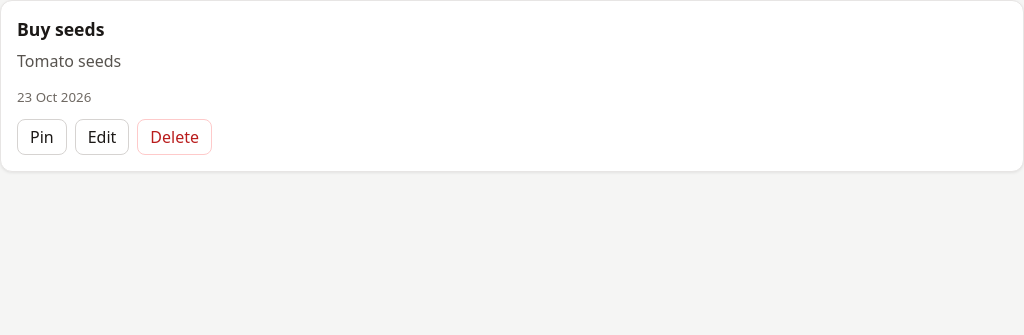
Scenario: NoteCard › disables Save when the title is empty
The width and height of the screenshot is (1024, 335).
Click the button "Edit" at x=102, y=137, box [75,119,129,155]
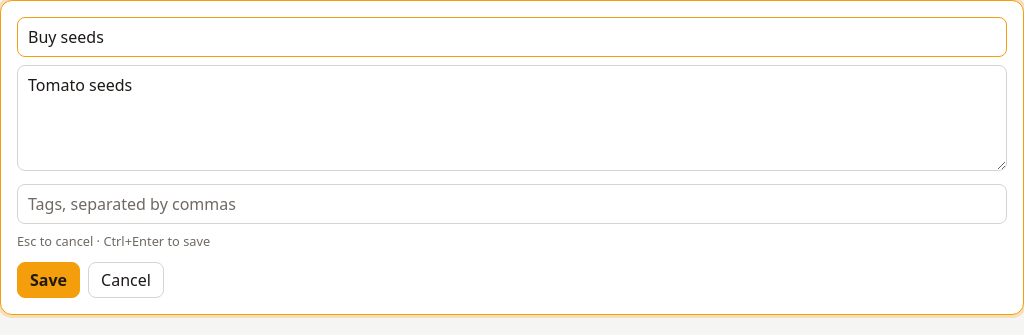
Clear the field named "Note title" at x=512, y=37, box [17,17,1007,57]
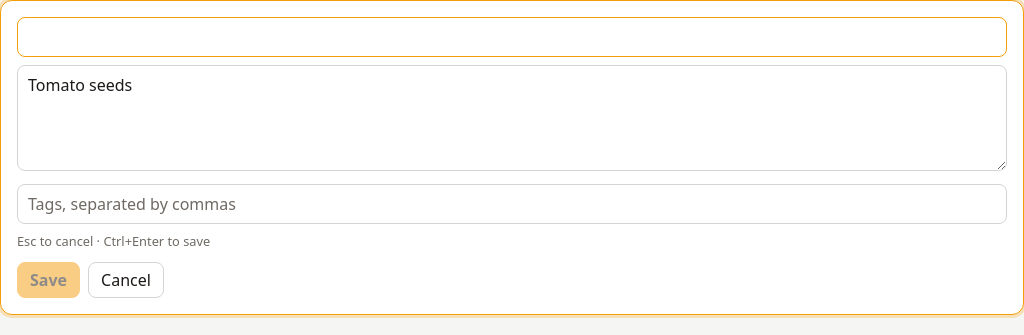
Expected: the button "Save" is disabled, [17,262,80,298]
